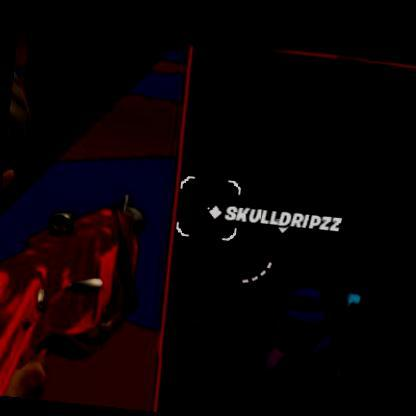person: (223, 257, 368, 416)
